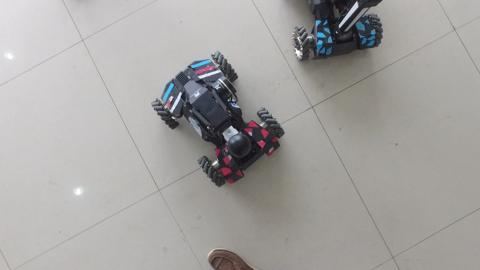chariot: (154, 48, 285, 192), (287, 1, 385, 65)
